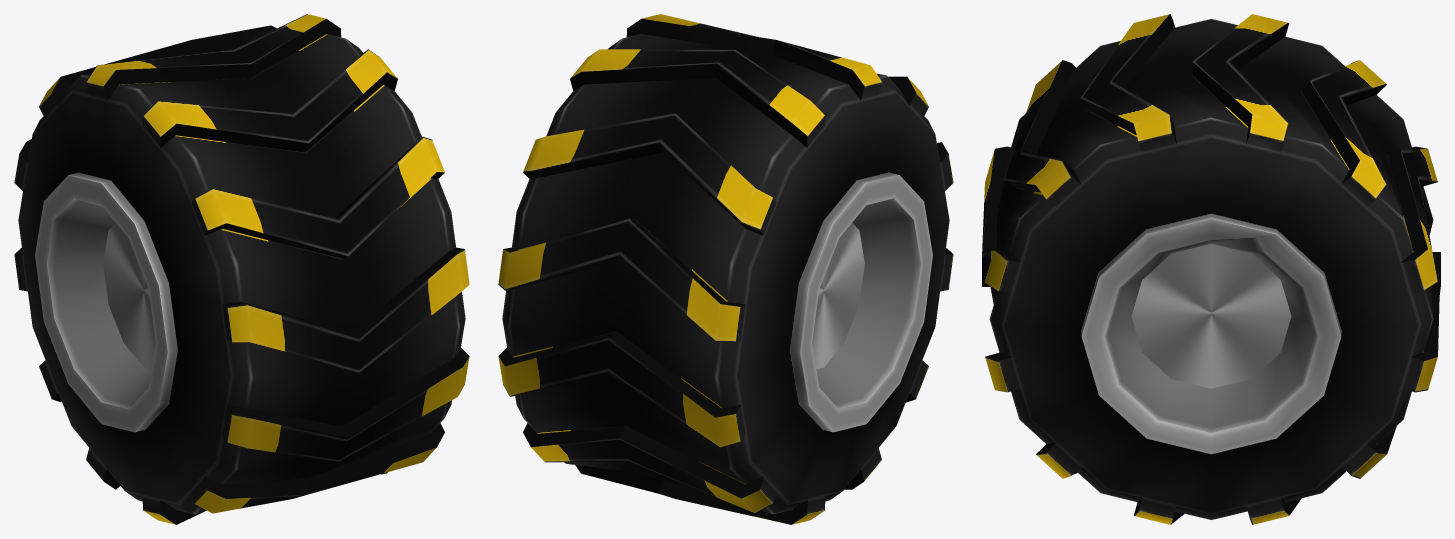
Rendered from wheel_shark.FBX.
3 views of the same model, side by side, from view 1: azimuth 30°, elevation 25°; view 2: azimuth 150°, elevation 25°; view 3: azimuth 270°, elevation 25° (orthographic). The views are drawn at different scales.
Visible parts, largest first — view 1: SHARK_WHEEL; view 2: SHARK_WHEEL; view 3: SHARK_WHEEL.
Boxes of the visible parts, <box> form: SHARK_WHEEL: <box>14,14,469,524</box>; SHARK_WHEEL: <box>498,14,953,524</box>; SHARK_WHEEL: <box>982,14,1440,524</box>.
Size of the model in its own units: 0.121 by 0.1748 by 0.1748.
